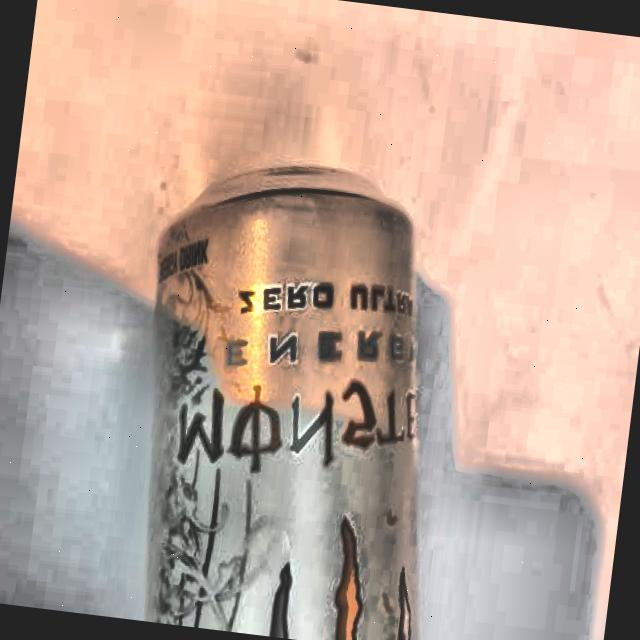metal: (121, 147, 465, 640)
